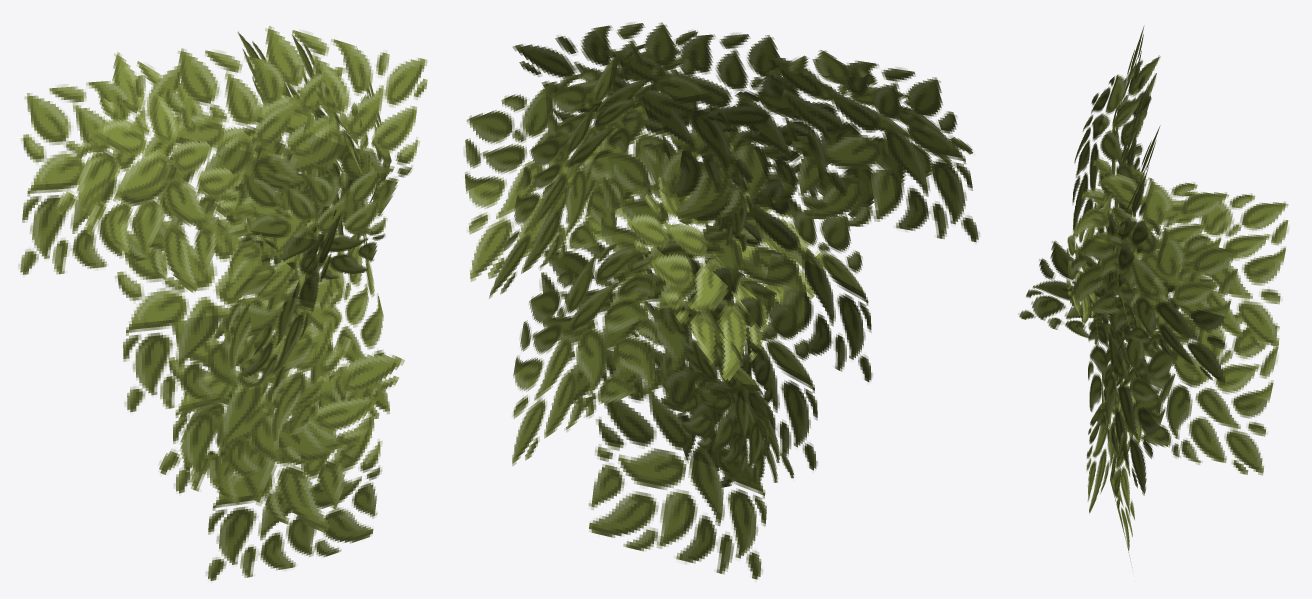
Rendered from vine_corner_alt.glb.
The picture shows the model from 3 angles, left to right: view 1: azimuth 30°, elevation 25°; view 2: azimuth 150°, elevation 25°; view 3: azimuth 270°, elevation 25°; orthographic projection. The views are drawn at different scales.
Visible parts, largest first — view 1: vine_corner_alt; view 2: vine_corner_alt; view 3: vine_corner_alt.
Boxes of the visible parts, x1=… form: vine_corner_alt: x1=18, y1=26, x2=427, y2=580; vine_corner_alt: x1=464, y1=22, x2=979, y2=579; vine_corner_alt: x1=1018, y1=25, x2=1288, y2=567.
Bounding box in the file's own units: 1.26 × 1.53 × 0.886.
1 material, 1 textured.
